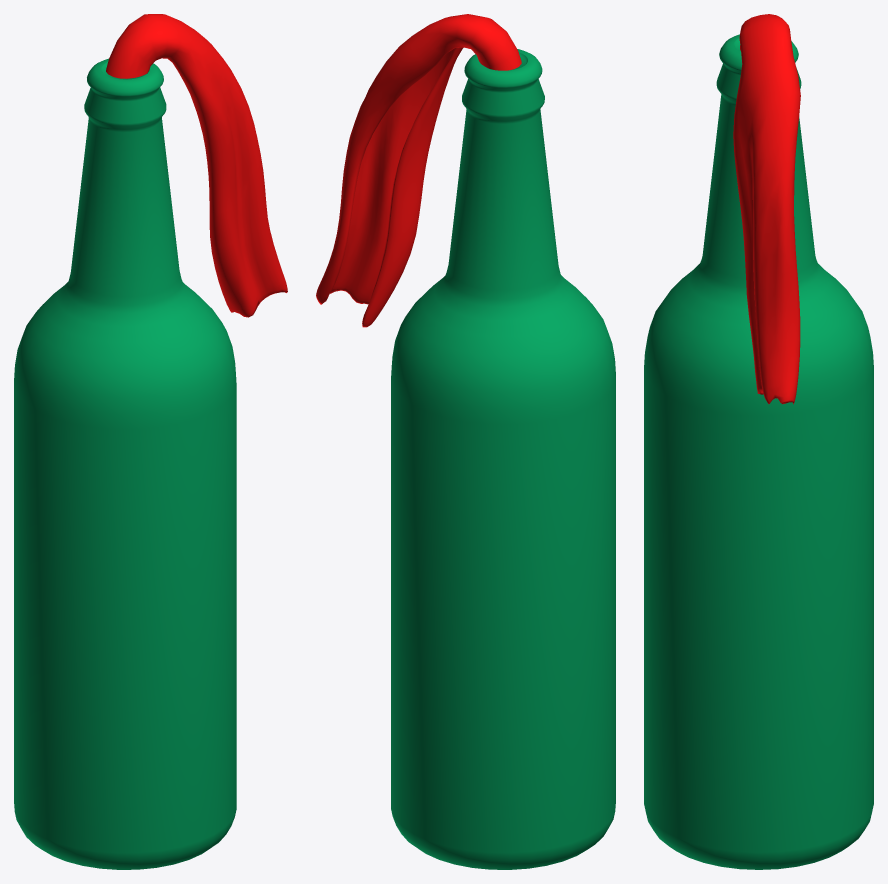
File: molotov.fbx
3 renders of one model, left to right at view 1: azimuth 30°, elevation 25°; view 2: azimuth 150°, elevation 25°; view 3: azimuth 270°, elevation 25°, orthographic. The views are drawn at different scales.
Parts seen in each view (by area): view 1: Molotov; view 2: Molotov; view 3: Molotov.
Boxes of the visible parts, bbox=[...] form: Molotov: bbox=[14, 14, 287, 869]; Molotov: bbox=[316, 14, 615, 869]; Molotov: bbox=[644, 14, 873, 869].
Size of the model in its own units: 480 by 1367 by 345.
